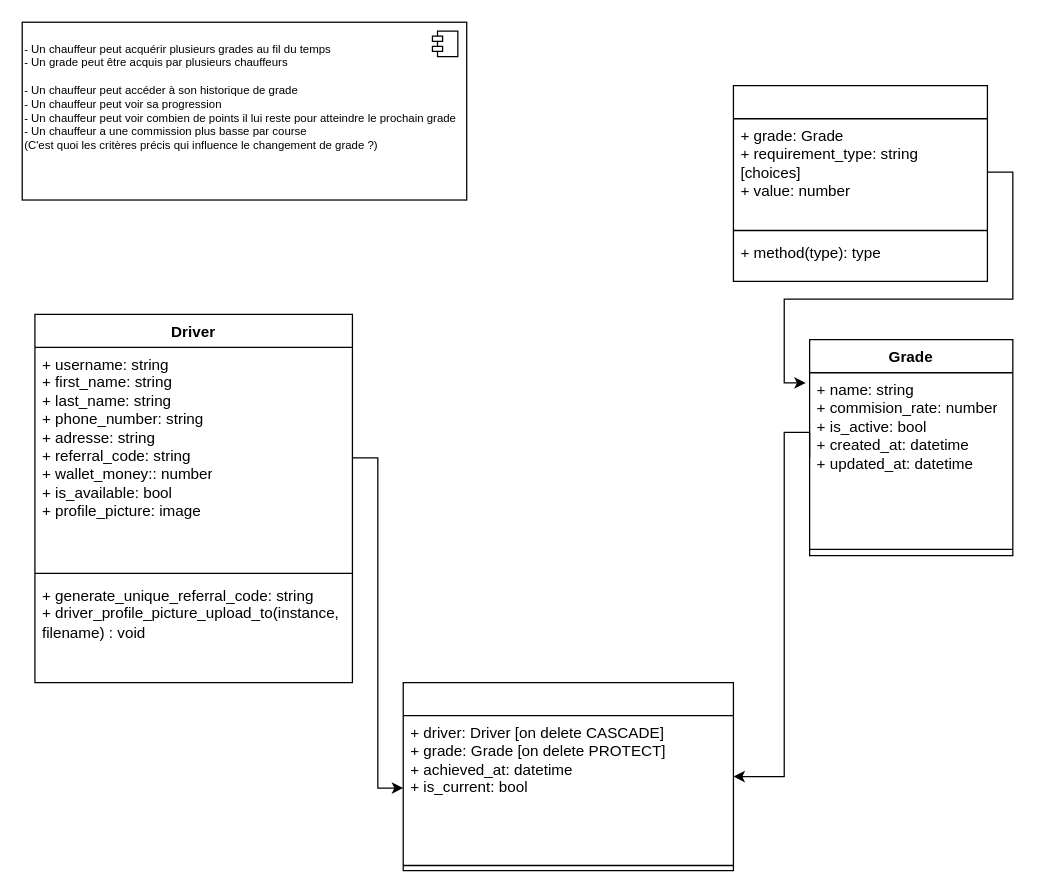
This 1045x893 diagram has some shape labels left out. Each missing label, with the box of its shape:
DriverGrade: (402, 681, 733, 871)
GradeRequirements: (732, 84, 987, 281)
